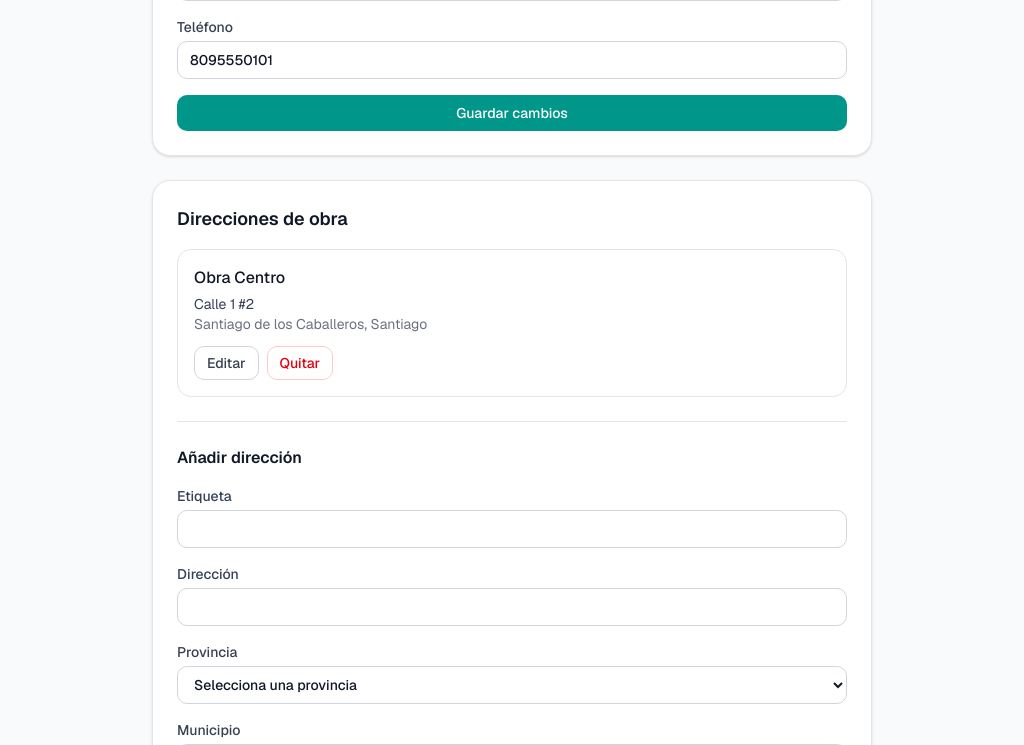
it: PerfilComprador › permite editar y quitar una dirección de obra
(page scrolled)
Click the button with aria-label "Editar Obra Centro". click: [226, 363]
box: [194,346,259,380]
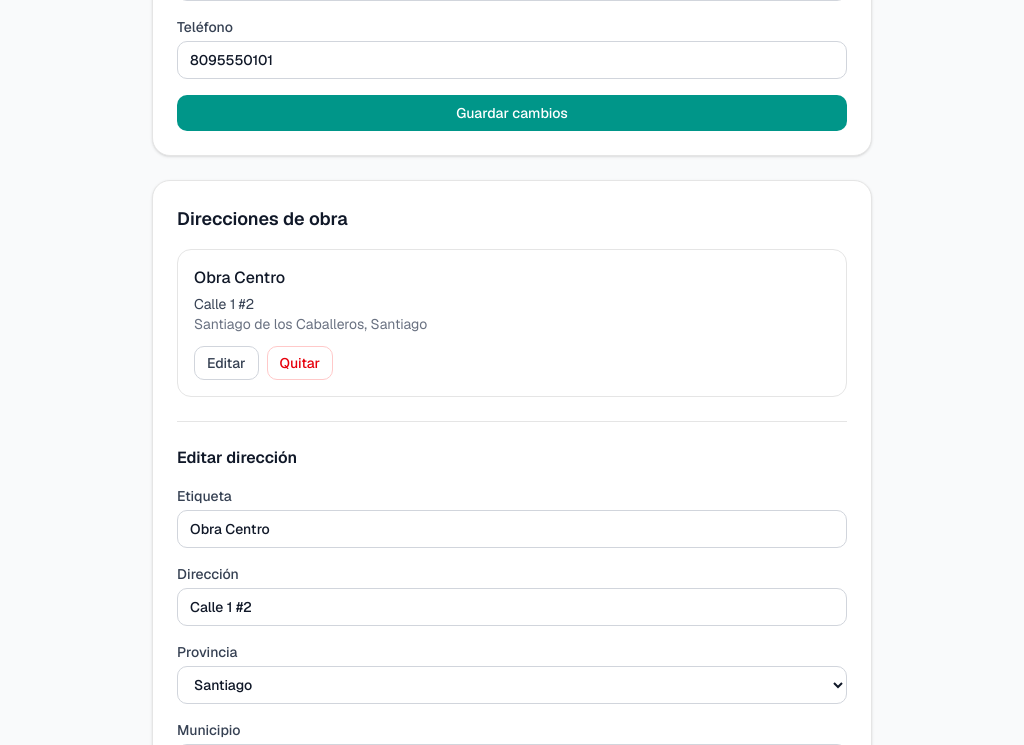
Replace the text in the field labelled "Etiqueta" with "Obra Norte". click: [512, 529]
box: [177,510,847,548]
Replace the text in the field labelled "Dirección" with "Av. 2". click: [512, 607]
box: [177,588,847,626]
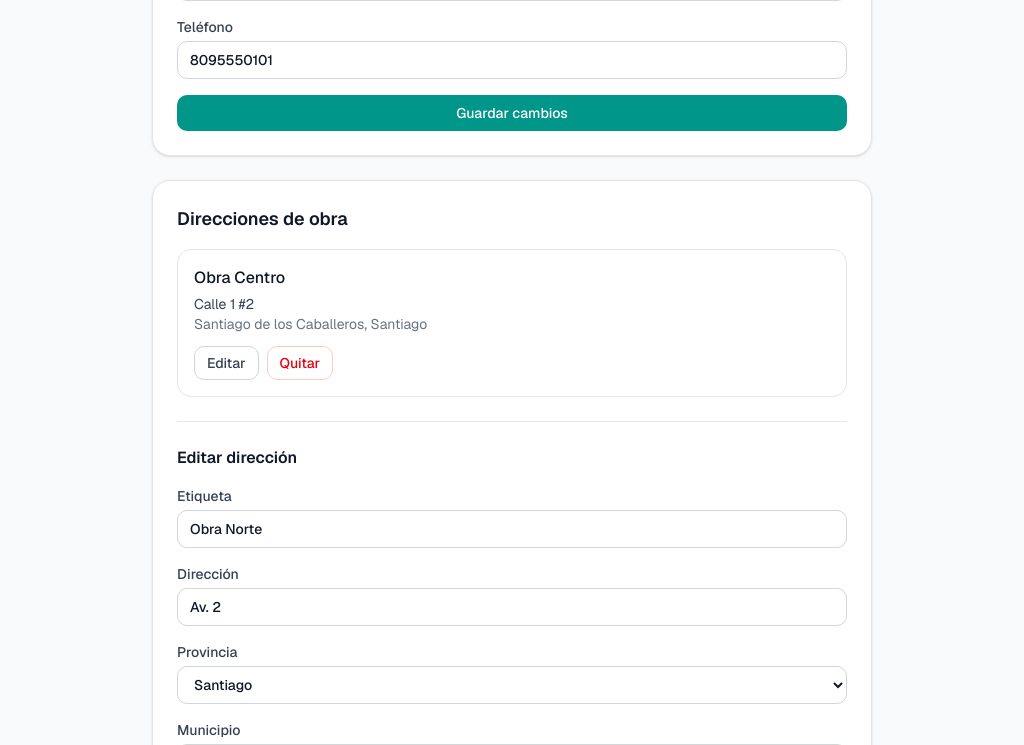
Select "Puerto Plata" in the dropdown labelled "Provincia". click: [512, 685]
box: [177,666,847,704]
(page scrolled)
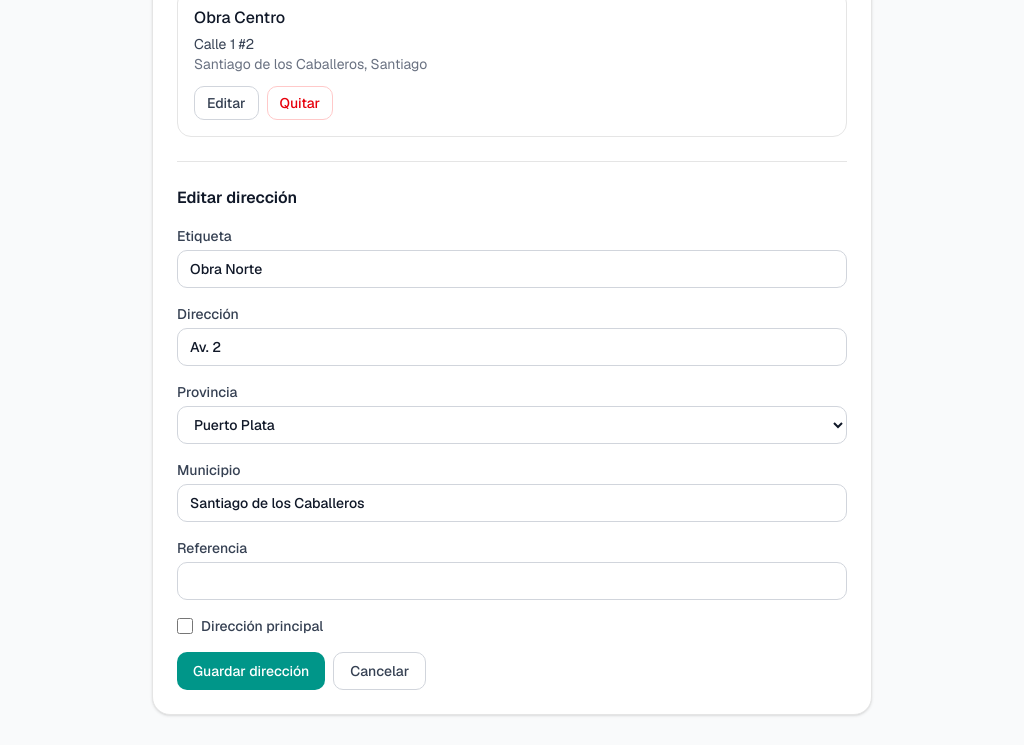
Clear the field labelled "Municipio". click: [512, 503]
box: [177,484,847,522]
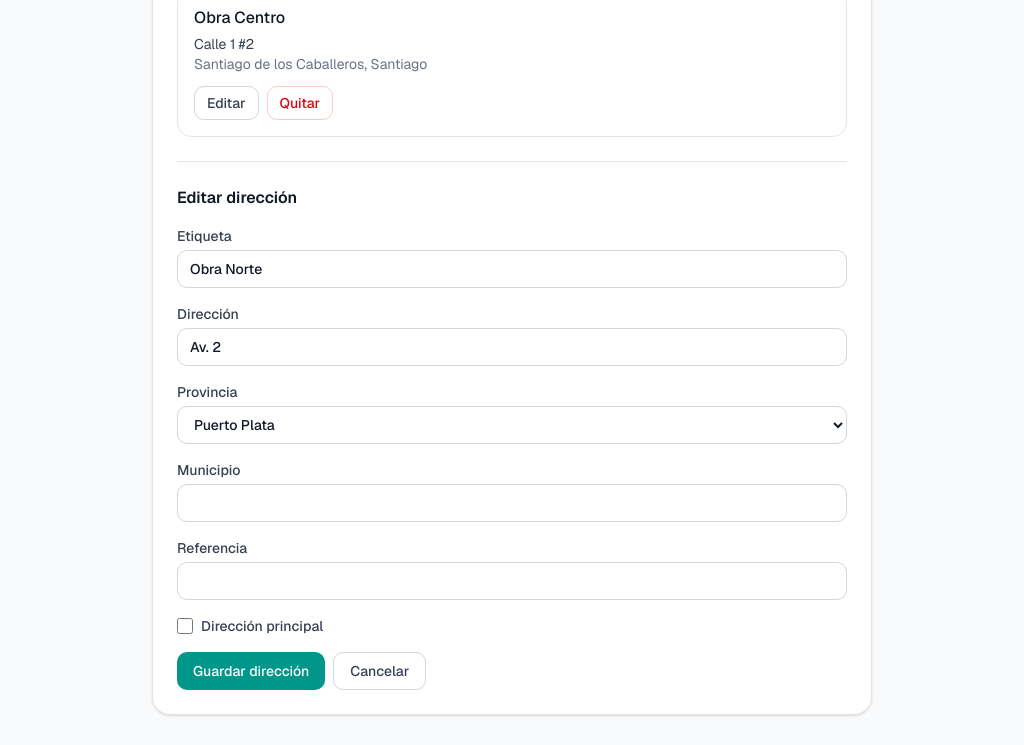
Click the button "Guardar dirección". click: [251, 671]
box: [177,652,325,690]
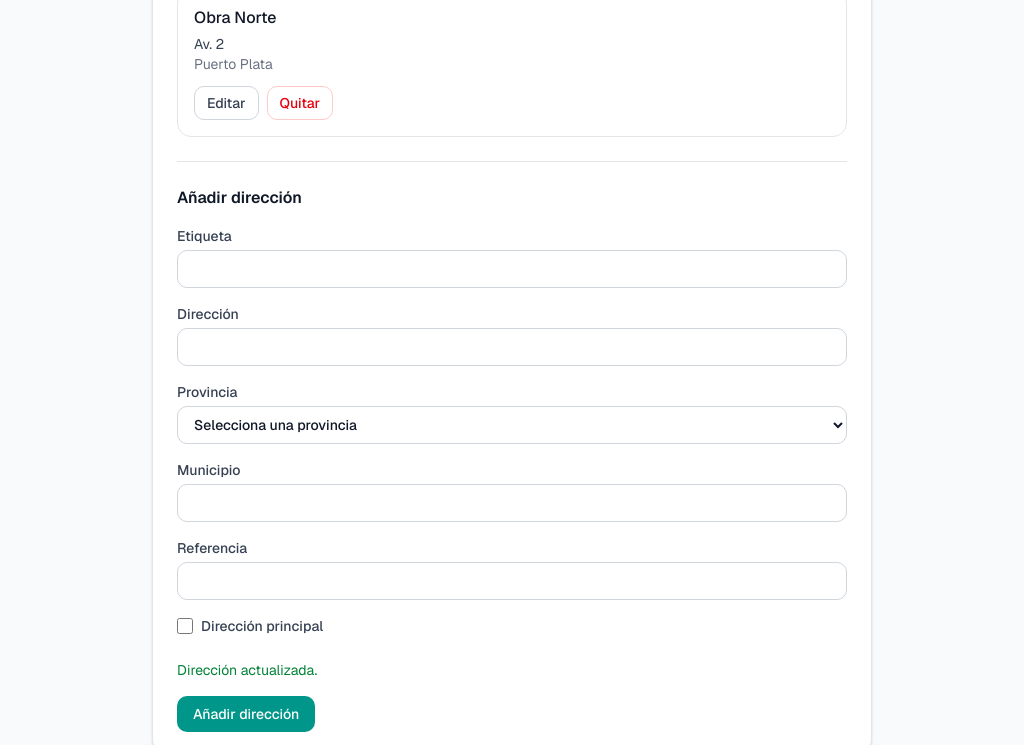
Click the button with aria-label "Quitar Obra Norte". click: [300, 103]
box: [267,86,333,120]
(page scrolled)
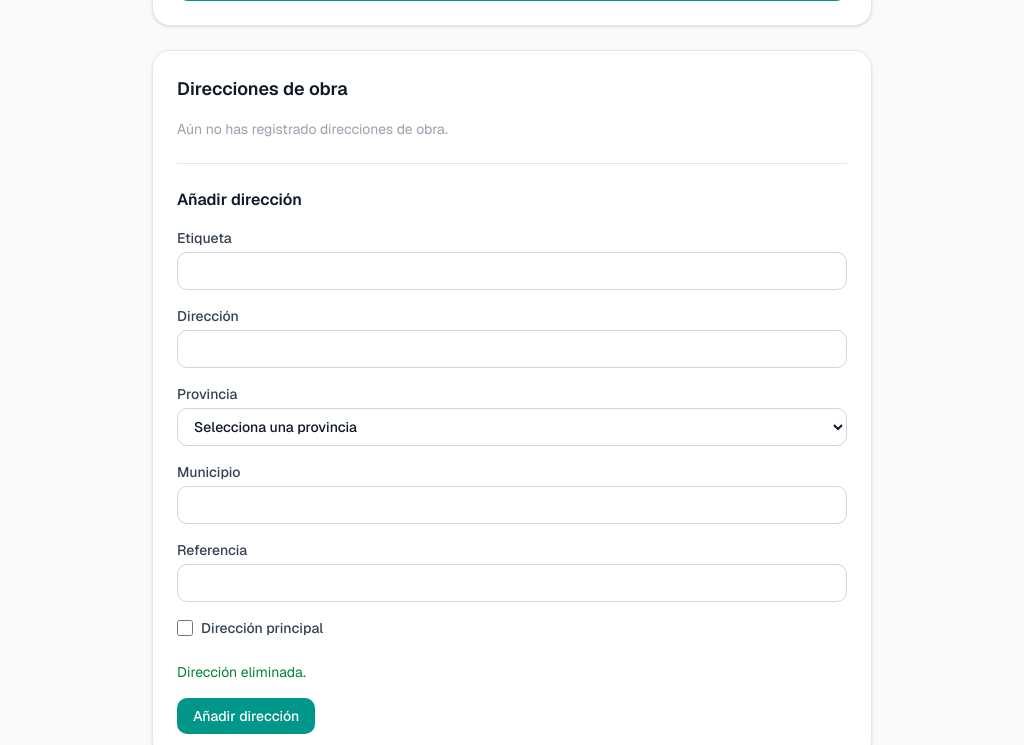
Result: the text "Dirección eliminada." is shown at [177,663,306,681]
Result: the text "Obra Norte" is gone
